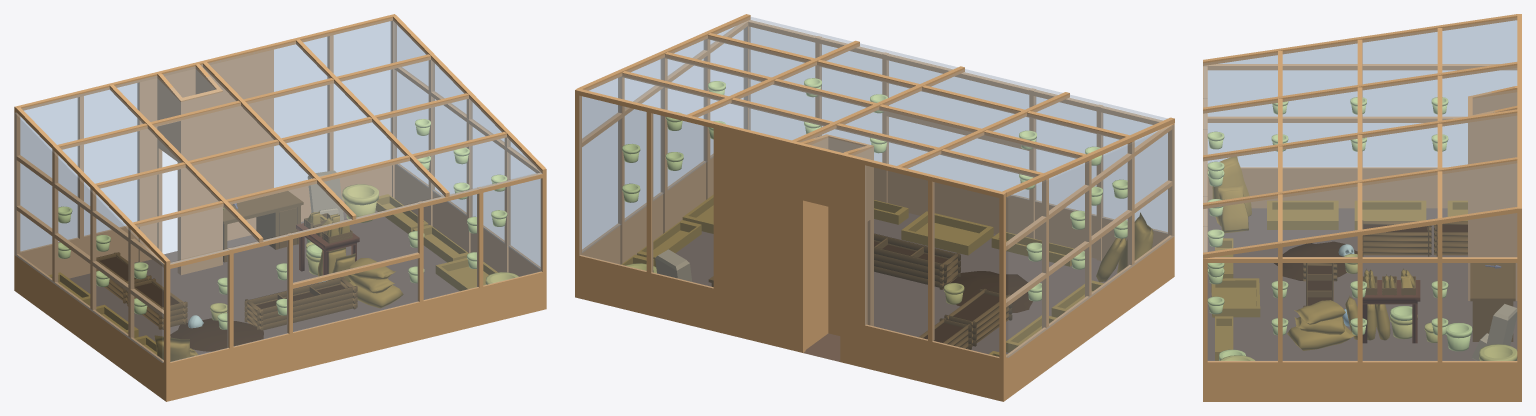
Rendered from S_SerreConcept.glb.
3 renders of one model, left to right at view 1: azimuth 30°, elevation 25°; view 2: azimuth 150°, elevation 25°; view 3: azimuth 270°, elevation 25°, orthographic. The views are drawn at different scales.
Parts seen in each view (by area): view 1: toit, Plane.086, Plane.082, Plane.078, S_Ground.002, Plane.085, Plane.012, Plane.145, Plane.154, Plane.131, Plane.136, Plane.135 (+55 smaller); view 2: toit, Plane.086, Plane.082, Plane.078, Plane.012, Plane.145, Plane.085, S_Ground.002, Plane.131, Plane.127, Plane.128, Plane.144 (+54 smaller); view 3: toit, Plane.085, Plane.082, S_Ground.002, Plane.130, Plane.131, Plane.152, Cube.072, Plane.100, Plane.102, Plane.101, Plane.121 (+41 smaller).
Part boxes in pixels (left/top/right/bottom): toit: left=22, top=18, right=542, bottom=264; Plane.086: left=170, top=173, right=541, bottom=361; Plane.082: left=15, top=112, right=163, bottom=362; Plane.078: left=274, top=21, right=391, bottom=187; S_Ground.002: left=69, top=210, right=458, bottom=354; Plane.085: left=393, top=22, right=540, bottom=269; Plane.012: left=20, top=83, right=138, bottom=250; Plane.145: left=195, top=44, right=273, bottom=240; Plane.154: left=178, top=88, right=222, bottom=274; Plane.131: left=16, top=254, right=163, bottom=399; Plane.136: left=293, top=301, right=419, bottom=370; Plane.135: left=423, top=271, right=542, bottom=338; toit: left=586, top=17, right=1167, bottom=191; Plane.086: left=749, top=21, right=1167, bottom=233; Plane.082: left=1006, top=125, right=1174, bottom=357; Plane.078: left=579, top=96, right=713, bottom=287; Plane.012: left=865, top=165, right=998, bottom=357; Plane.145: left=713, top=122, right=802, bottom=352; Plane.085: left=582, top=25, right=747, bottom=252; S_Ground.002: left=676, top=213, right=1118, bottom=361; Plane.131: left=1006, top=235, right=1172, bottom=399; Plane.127: left=865, top=324, right=999, bottom=400; Plane.128: left=579, top=255, right=713, bottom=330; Plane.144: left=842, top=153, right=867, bottom=367; toit: left=1203, top=18, right=1516, bottom=252; Plane.085: left=1208, top=213, right=1516, bottom=360; Plane.082: left=1208, top=20, right=1516, bottom=166; S_Ground.002: left=1207, top=208, right=1517, bottom=360; Plane.130: left=1207, top=361, right=1517, bottom=401; Plane.131: left=1207, top=167, right=1467, bottom=208; Plane.152: left=1472, top=106, right=1517, bottom=300; Cube.072: left=1470, top=263, right=1515, bottom=341; Plane.100: left=1203, top=157, right=1517, bottom=208; Plane.102: left=1203, top=62, right=1517, bottom=113; Plane.101: left=1203, top=109, right=1517, bottom=161; Plane.121: left=1203, top=14, right=1517, bottom=65.
Bounding box in the file's own units: 7.76 × 3.86 × 5.34.
